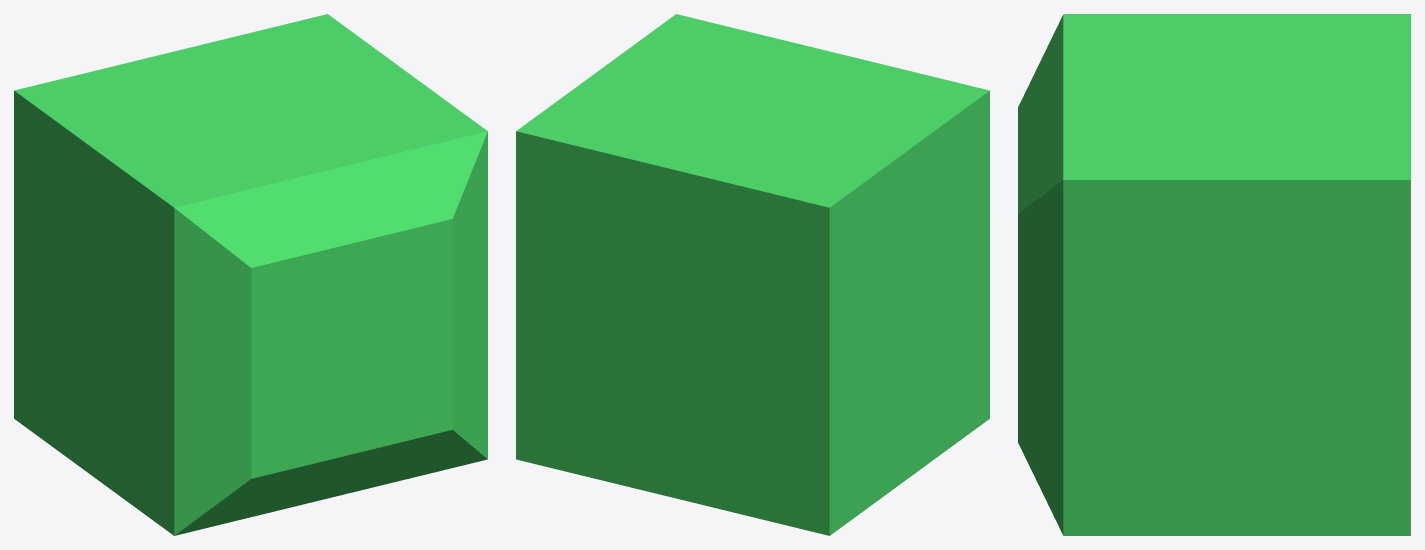
File: center-block.glb
3 views of the same model, side by side, from view 1: azimuth 30°, elevation 25°; view 2: azimuth 150°, elevation 25°; view 3: azimuth 270°, elevation 25° (orthographic). The views are drawn at different scales.
Visible parts, largest first — view 1: Cube; view 2: Cube; view 3: Cube.
Part boxes in pixels (left/top/right/bottom): Cube: left=14, top=14, right=487, bottom=535; Cube: left=516, top=14, right=989, bottom=535; Cube: left=1018, top=14, right=1410, bottom=535.
Size of the model in its own units: 1 by 1 by 1.
